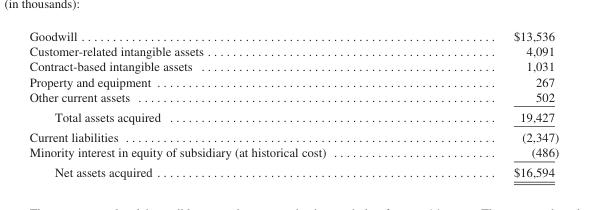table: (28, 28, 558, 179)
table column: (28, 28, 419, 179), (419, 28, 558, 179)
table row: (28, 106, 558, 126), (28, 88, 558, 106), (28, 126, 558, 144), (28, 144, 558, 162), (28, 162, 558, 179), (28, 28, 558, 43), (28, 43, 558, 58), (28, 58, 558, 73), (28, 73, 558, 88)
